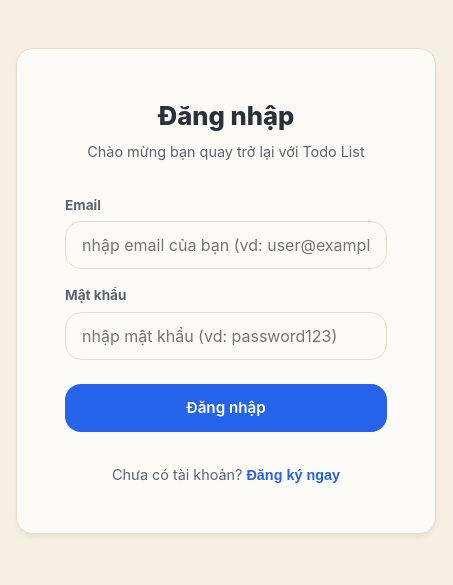
Test: Kiểm thử Luồng Đăng nhập, Đăng ký & Đăng xuất › Hiển thị thông báo lỗi khi đăng nhập sai thông tin
Type "wrong@example.com" into the field labelled "Email".
click(226, 245); type("wrong@example.com")  # box [65,221,387,269]
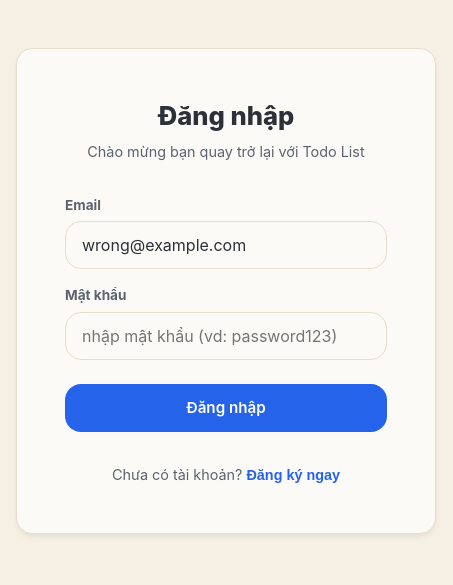
Type "wrongpass" into the password field labelled "Mật khẩu".
click(226, 336); type("wrongpass")  # box [65,312,387,360]
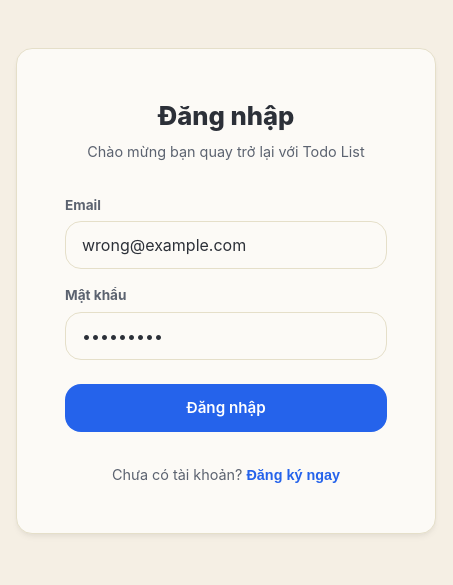
Click the button "Đăng nhập".
click(226, 408)  # box [65,384,387,432]
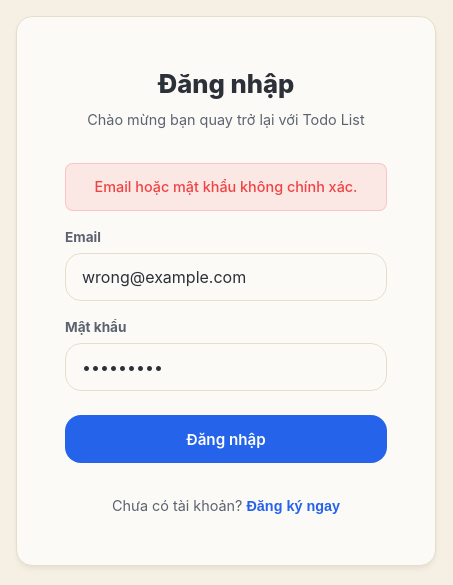
Now the text "Email hoặc mật khẩu không chính xác." is shown, box [94,178,358,195]
